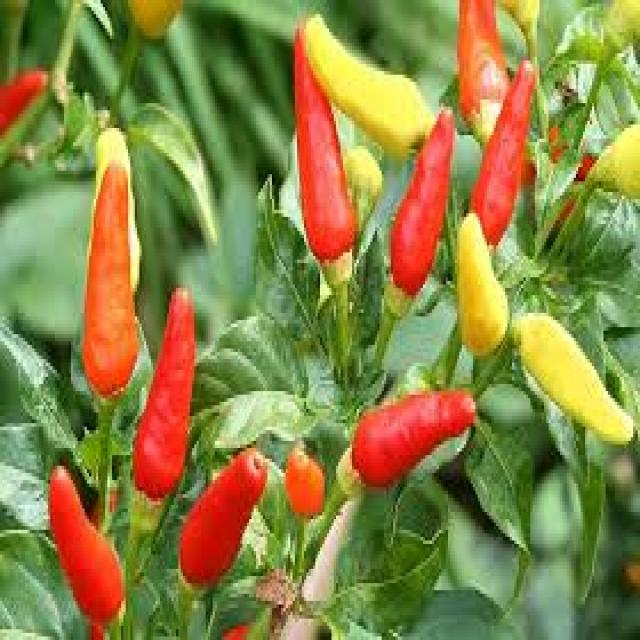hot pepper: (294, 2, 440, 166), (507, 301, 640, 464), (285, 21, 366, 272), (339, 371, 489, 493), (37, 451, 130, 619), (125, 286, 197, 502), (73, 164, 133, 411), (171, 438, 268, 589), (385, 111, 458, 301), (471, 56, 539, 242), (445, 198, 504, 368), (450, 0, 517, 146), (576, 0, 640, 134), (573, 117, 640, 216), (0, 64, 56, 151), (499, 0, 556, 81), (279, 432, 327, 526)
